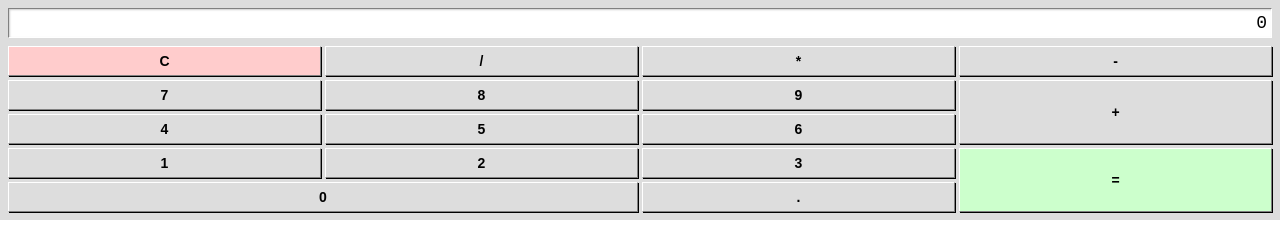
it: Calculator › Number Input › inputs multiple digits correctly
The image size is (1280, 237).
Click the button with test id "btn-1" at (164, 163), box [8,148,321,178]
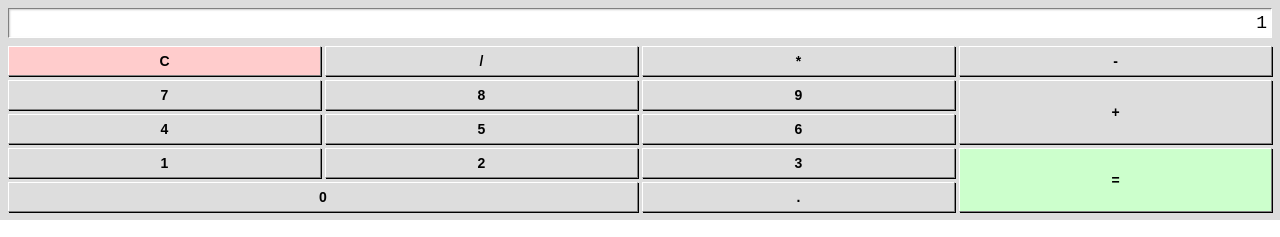
Click the button with test id "btn-2" at (482, 163), box [325,148,638,178]
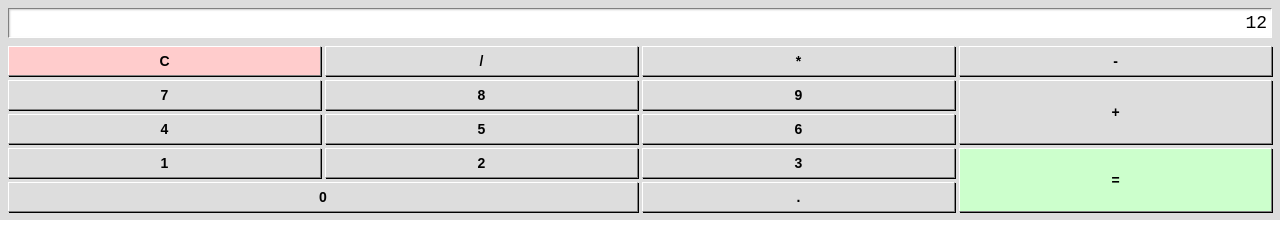
Click the button with test id "btn-3" at (798, 163), box [642,148,955,178]
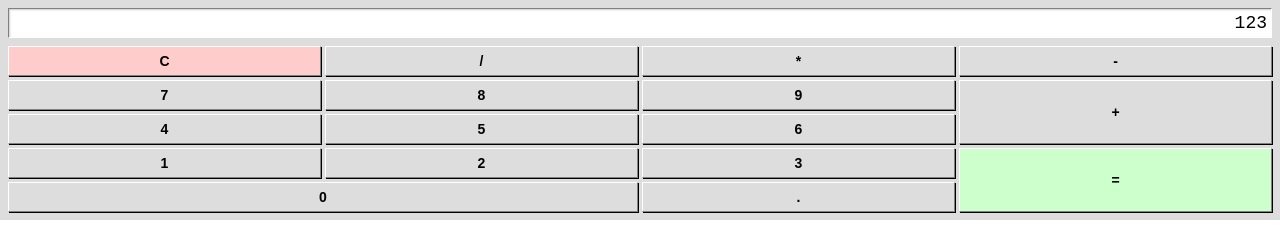
Now the text with test id "display" reads "123", box [1235,13,1267,33]
